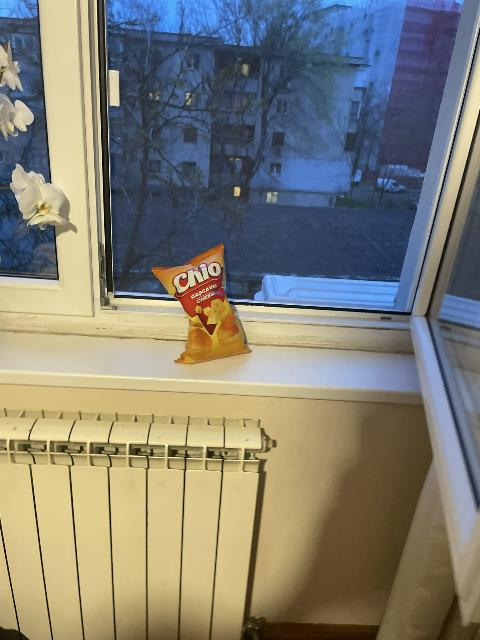Chio Cascaval 125g: (149, 242, 253, 362)
